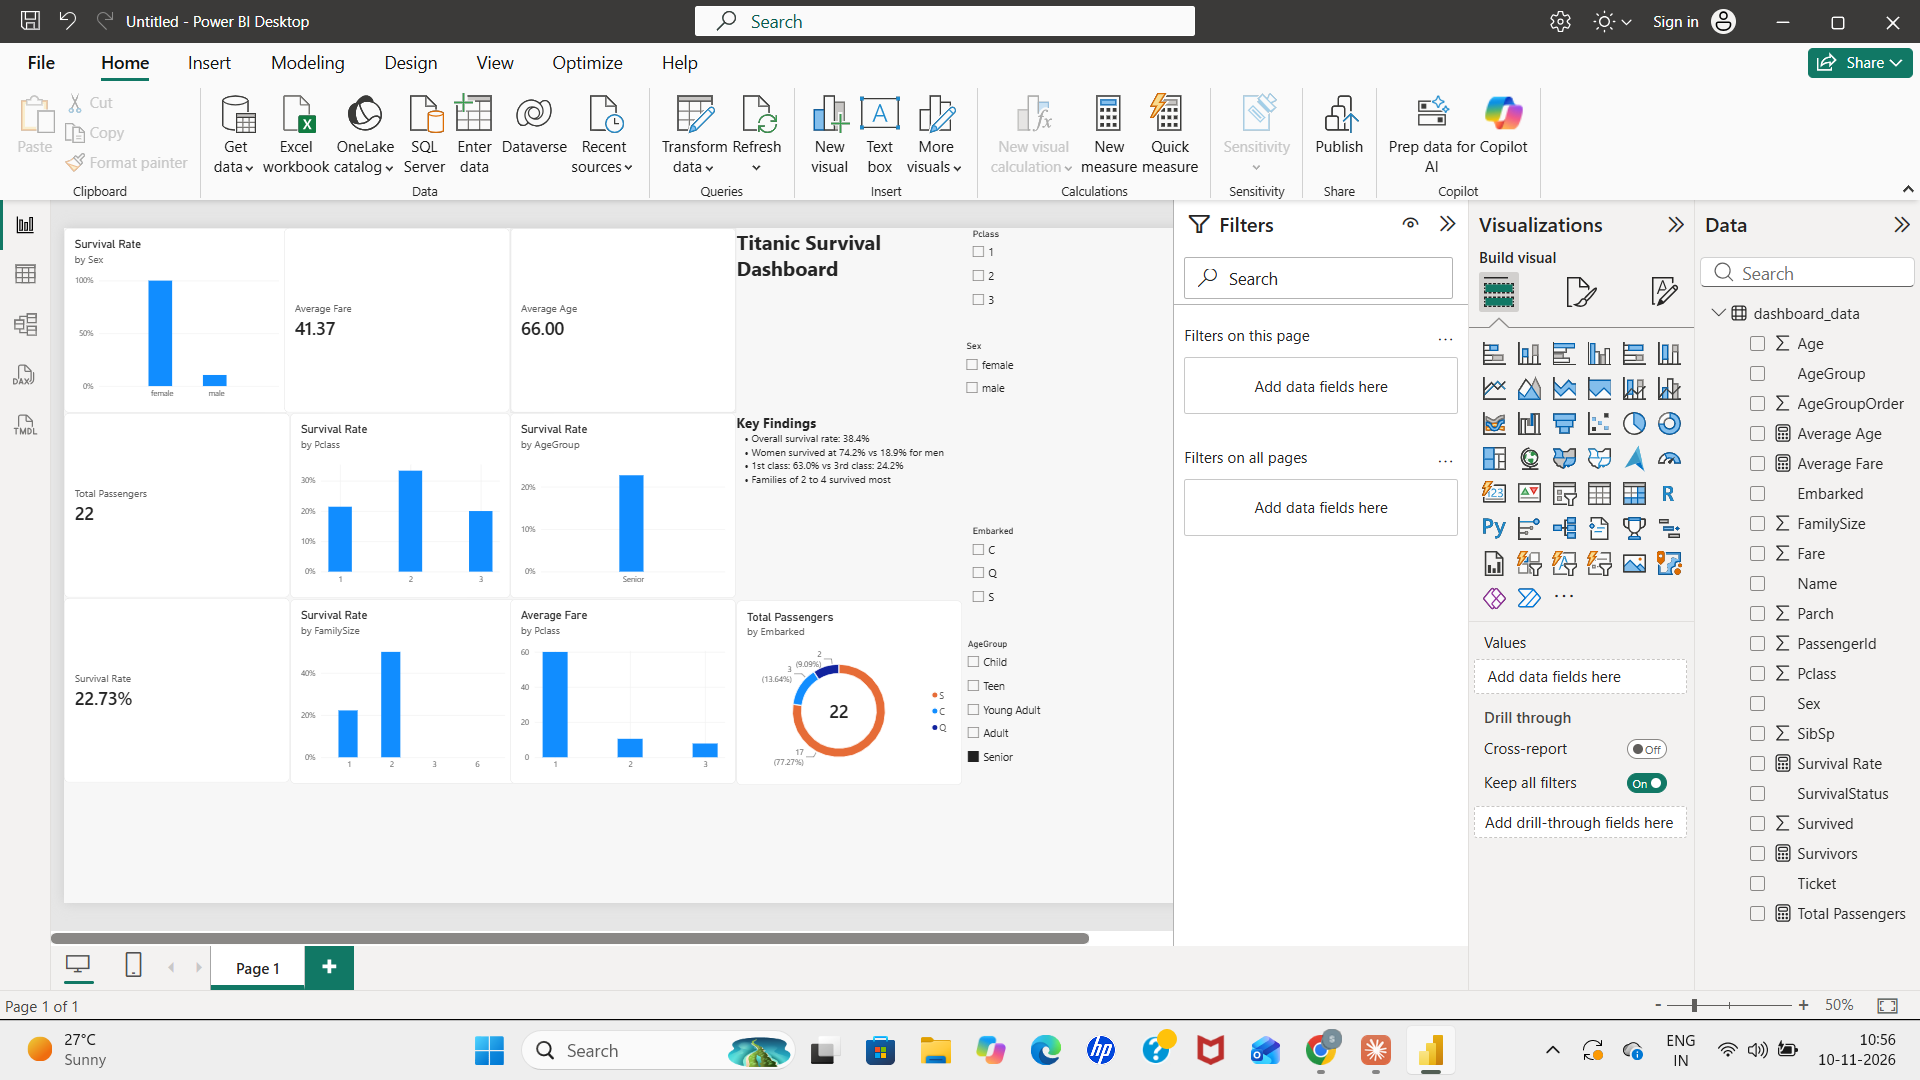

The page's visual inventory and layout, read from the dashboard file:
{"tool":"powerbi","page":{"name":"Page 1","canvas":[1920,1080],"ordinal":0},"visuals":[{"type":"clusteredColumnChart","fields":{"Category":["dashboard_data.Sex"],"Y":["dashboard_data.Survival Rate"]},"box":[0,0,361.4,295.1],"z":0},{"type":"cardVisual","fields":{"Data":["dashboard_data.Total Passengers"]},"box":[0,296,361,295],"z":2},{"type":"cardVisual","fields":{"Data":["dashboard_data.Survival Rate"]},"box":[0,592,361,295],"z":3},{"type":"cardVisual","fields":{"Data":["dashboard_data.Average Fare"]},"box":[352,0,361,295],"z":4},{"type":"cardVisual","fields":{"Data":["dashboard_data.Average Age"]},"box":[714,0,361,295],"z":5},{"type":"clusteredColumnChart","fields":{"Category":["dashboard_data.Pclass"],"Y":["dashboard_data.Survival Rate"]},"box":[362,296,352,296],"z":6},{"type":"clusteredColumnChart","fields":{"Category":["dashboard_data.AgeGroup"],"Y":["dashboard_data.Survival Rate"]},"box":[714,296,361,296],"z":7},{"type":"clusteredColumnChart","fields":{"Category":["dashboard_data.FamilySize"],"Y":["dashboard_data.Survival Rate"]},"box":[361.7,593.3,361,295],"z":8},{"type":"clusteredColumnChart","fields":{"Category":["dashboard_data.Pclass"],"Y":["dashboard_data.Average Fare"]},"box":[713.3,593.3,361,295],"z":9},{"type":"donutChart","fields":{"Category":["dashboard_data.Embarked"],"Y":["dashboard_data.Total Passengers"]},"box":[1075,595,361,295],"z":10},{"type":"slicer","fields":{"Values":["dashboard_data.Sex"]},"box":[1436.7,180,361,296],"z":11},{"type":"slicer","fields":{"Values":["dashboard_data.Pclass"]},"box":[1426.2,0,360.8,164.6],"z":12},{"type":"slicer","fields":{"Values":["dashboard_data.Embarked"]},"box":[1445,476.7,361,296],"z":13},{"type":"slicer","fields":{"Values":["dashboard_data.AgeGroup"]},"box":[1438.3,656.7,361,296],"z":15},{"type":"textbox","box":[362,897,361,183],"z":16},{"type":"textbox","box":[723,897,351,183],"z":17},{"type":"textbox","box":[1075,0,361.7,295],"z":18},{"type":"textbox","box":[1076,296,360,298],"z":20}]}

Visuals, with their boxes on the page's 1920x1080 design canvas (x1, y1, x2, y2). These are canvas units, not pixel positions in the 1920x1080 screenshot, which may show the page scaled, cropped or inside an application window:
clusteredColumnChart - dashboard_data.Sex x dashboard_data.Survival Rate: l=0, t=0, r=361, b=295
cardVisual - dashboard_data.Total Passengers: l=0, t=296, r=361, b=591
cardVisual - dashboard_data.Survival Rate: l=0, t=592, r=361, b=887
cardVisual - dashboard_data.Average Fare: l=352, t=0, r=713, b=295
cardVisual - dashboard_data.Average Age: l=714, t=0, r=1075, b=295
clusteredColumnChart - dashboard_data.Pclass x dashboard_data.Survival Rate: l=362, t=296, r=714, b=592
clusteredColumnChart - dashboard_data.AgeGroup x dashboard_data.Survival Rate: l=714, t=296, r=1075, b=592
clusteredColumnChart - dashboard_data.FamilySize x dashboard_data.Survival Rate: l=362, t=593, r=723, b=888
clusteredColumnChart - dashboard_data.Pclass x dashboard_data.Average Fare: l=713, t=593, r=1074, b=888
donutChart - dashboard_data.Embarked x dashboard_data.Total Passengers: l=1075, t=595, r=1436, b=890
slicer - dashboard_data.Sex: l=1437, t=180, r=1798, b=476
slicer - dashboard_data.Pclass: l=1426, t=0, r=1787, b=165
slicer - dashboard_data.Embarked: l=1445, t=477, r=1806, b=773
slicer - dashboard_data.AgeGroup: l=1438, t=657, r=1799, b=953
textbox: l=362, t=897, r=723, b=1080
textbox: l=723, t=897, r=1074, b=1080
textbox: l=1075, t=0, r=1437, b=295
textbox: l=1076, t=296, r=1436, b=594
